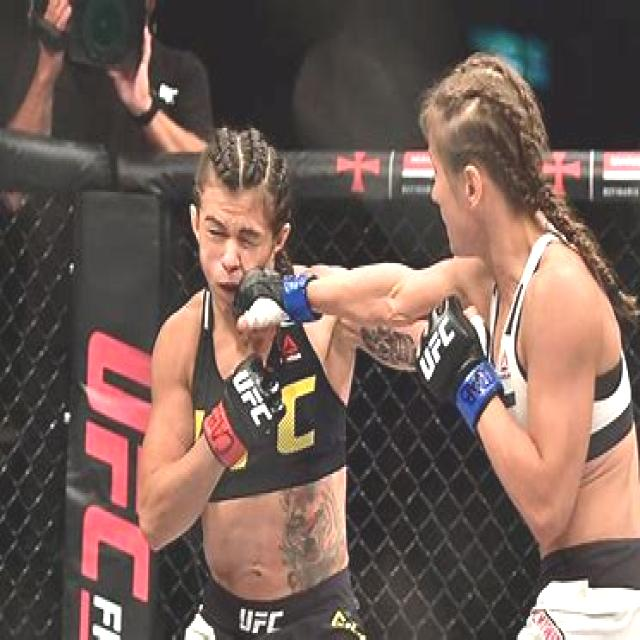fight: (134, 58, 612, 583)
